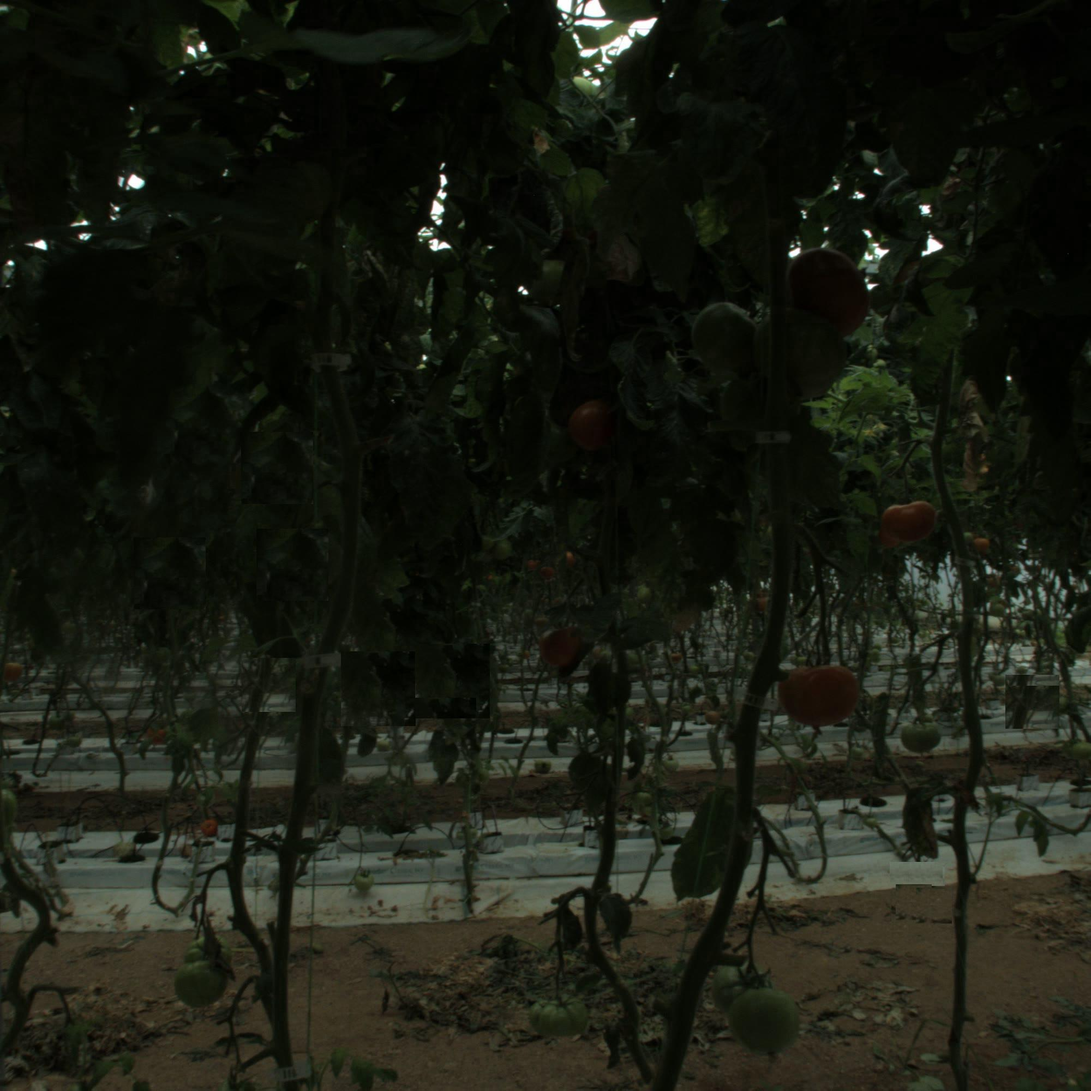fully-ripe: (786, 662, 850, 726), (889, 497, 934, 542), (540, 629, 579, 668)
semi-ripe: (776, 248, 872, 344), (564, 399, 614, 449)
unripe: (687, 302, 764, 379), (729, 991, 794, 1055), (172, 958, 227, 1013), (534, 992, 579, 1037), (902, 716, 941, 755)
